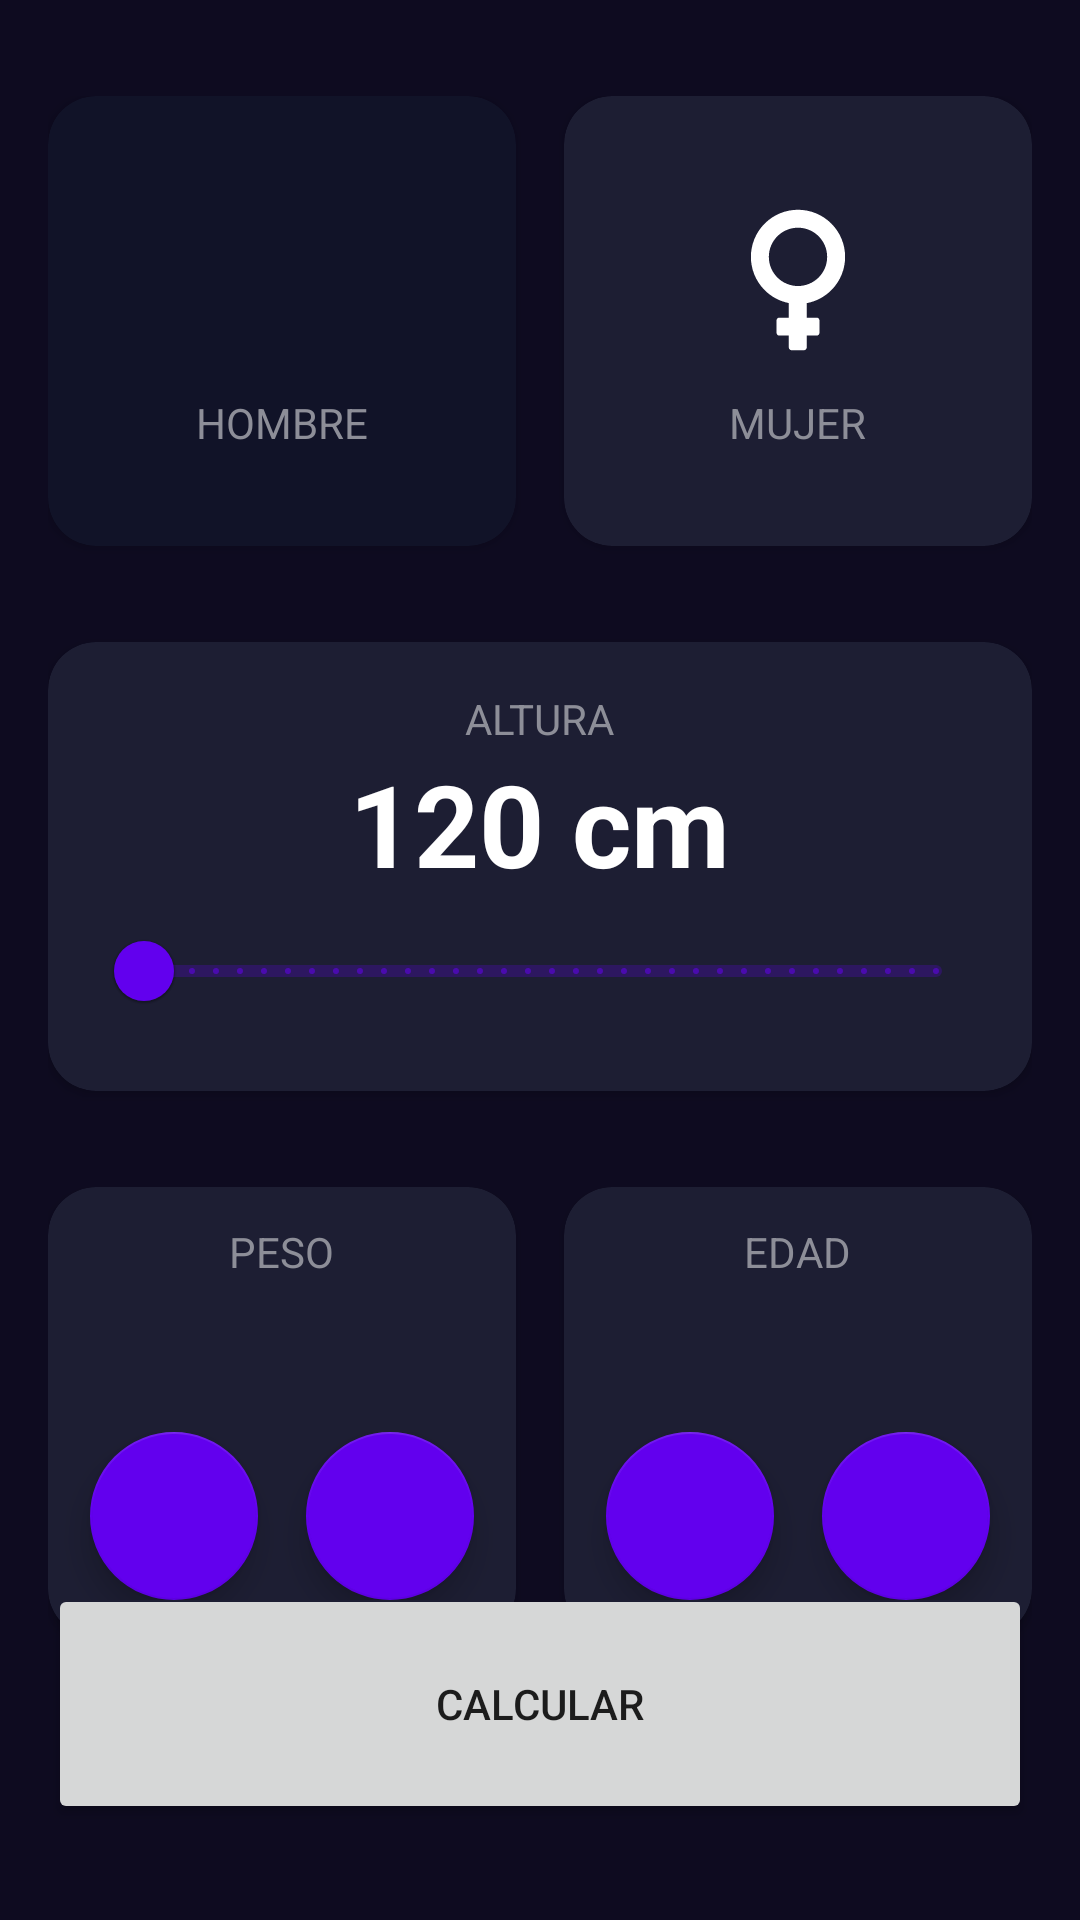

Point at icon controls on the screen. Image size 1080*1920, points as (x=x, y=y).
female: (x=798, y=280)
